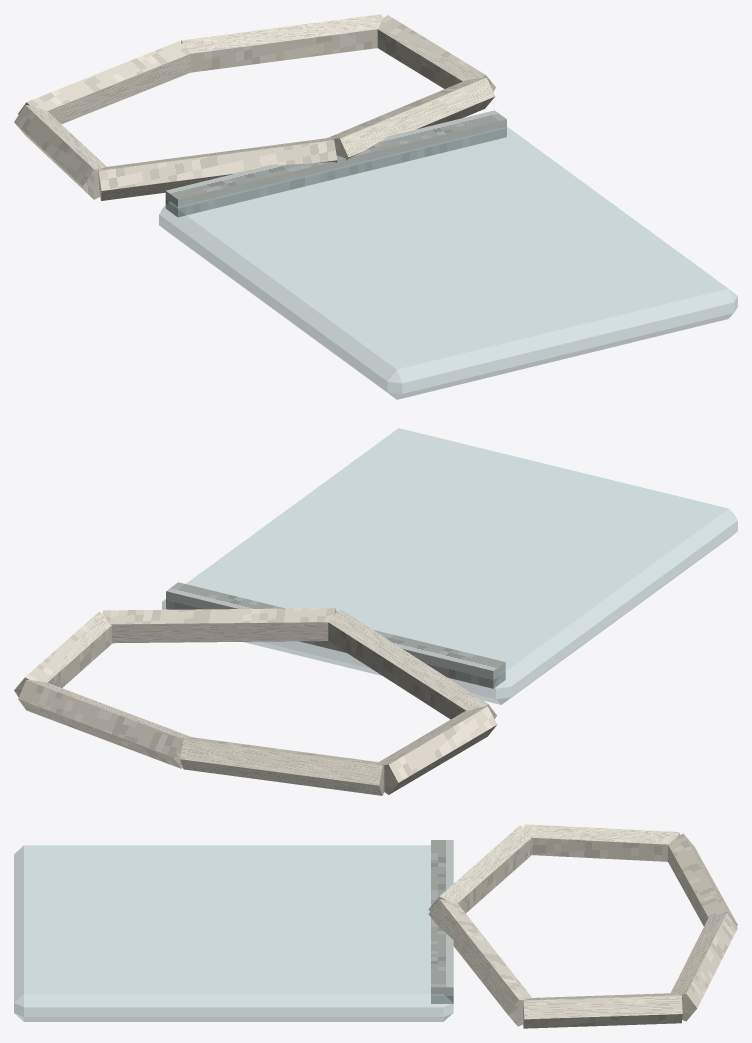
The model's file is lanyard.glb.
The picture shows the model from 3 angles, top to bottom: view 1: azimuth 30°, elevation 25°; view 2: azimuth 150°, elevation 25°; view 3: azimuth 270°, elevation 25°; orthographic projection. The views are drawn at different scales.
Parts seen in each view (by area): view 1: block_clear ID sleeve, block_sleeve opening lip, block_neck strap 3, block_neck strap 0, block_neck strap 2, block_neck strap 5, block_neck strap 4, block_neck strap 1; view 2: block_clear ID sleeve, block_neck strap 5, block_neck strap 2, block_neck strap 3, block_neck strap 0, block_sleeve opening lip, block_neck strap 1, block_neck strap 4; view 3: block_clear ID sleeve, block_neck strap 4, block_neck strap 1, block_neck strap 5, block_neck strap 0, block_neck strap 3, block_sleeve opening lip, block_neck strap 2.
Boxes of the visible parts, x1,y1,x2,y2 form: block_clear ID sleeve: (159, 126, 737, 399); block_sleeve opening lip: (165, 110, 506, 217); block_neck strap 3: (181, 14, 383, 72); block_neck strap 0: (98, 138, 337, 200); block_neck strap 2: (18, 41, 190, 124); block_neck strap 5: (328, 77, 495, 160); block_neck strap 4: (377, 15, 495, 91); block_neck strap 1: (14, 105, 106, 199); block_clear ID sleeve: (162, 428, 737, 704); block_neck strap 5: (102, 608, 336, 643); block_neck strap 2: (180, 737, 384, 795); block_neck strap 3: (18, 680, 191, 768); block_neck strap 0: (328, 609, 496, 719); block_sleeve opening lip: (166, 582, 505, 688); block_neck strap 1: (379, 706, 497, 794); block_neck strap 4: (14, 612, 112, 697); block_clear ID sleeve: (14, 845, 453, 1021); block_neck strap 4: (523, 993, 682, 1028); block_neck strap 1: (524, 824, 679, 861); block_neck strap 5: (428, 899, 532, 1026); block_neck strap 0: (428, 825, 532, 913); block_neck strap 3: (671, 913, 737, 1021); block_sleeve opening lip: (431, 840, 453, 1003); block_neck strap 2: (668, 833, 737, 926).
Bounding box in the file's own units: 0.0302 × 0.00381 × 0.05.
2 materials, 2 textured.
